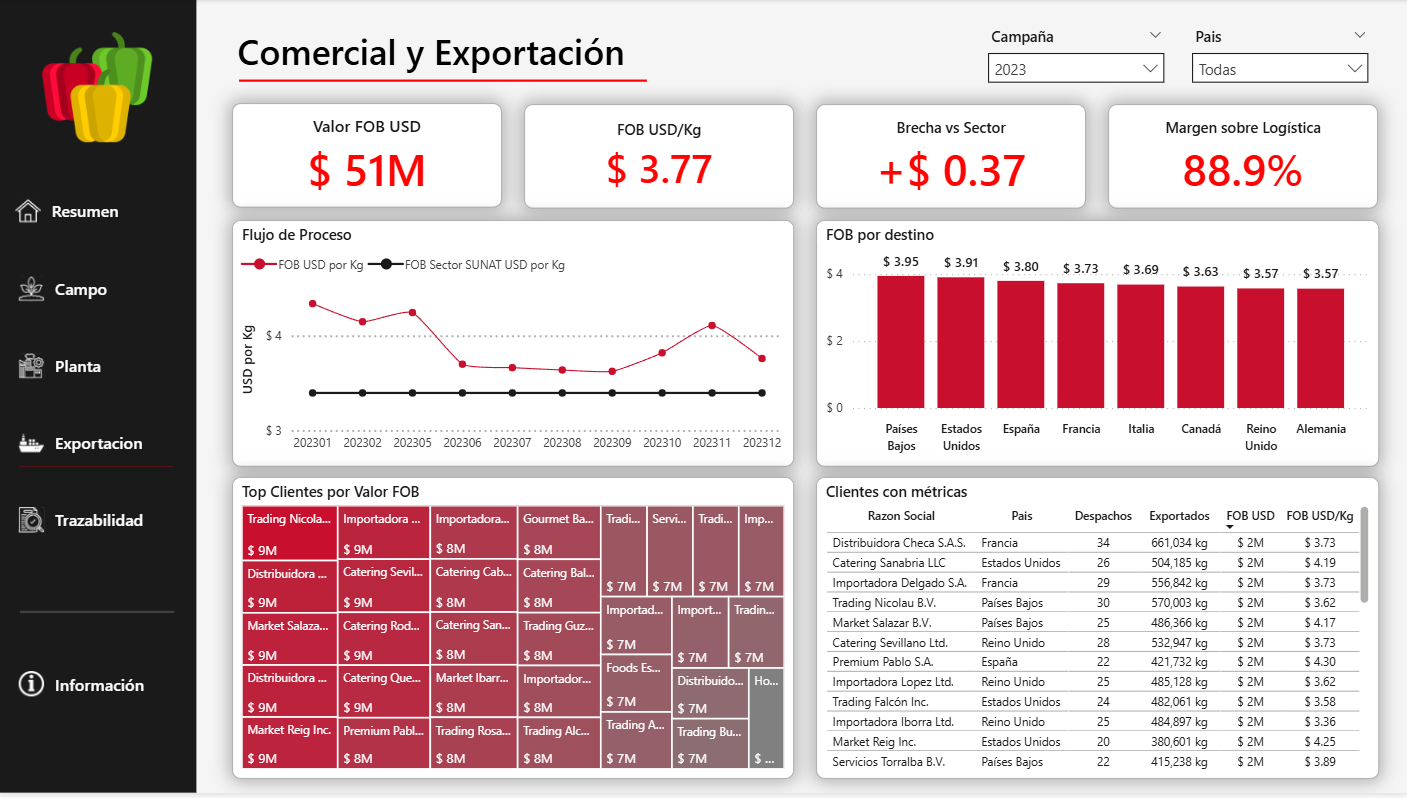

The page's visual inventory and layout, read from the dashboard file:
{"tool":"powerbi","page":{"name":"Exportacion","canvas":[1280,720],"ordinal":3},"visuals":[{"type":"shape","box":[0,0,180.4,720],"z":0},{"type":"cardVisual","fields":{"Data":["_Medidas.Valor FOB USD M"]},"box":[212.2,94.5,245.3,95],"z":1000},{"type":"cardVisual","fields":{"Data":["FactDespacho.FOB USD por Kg"]},"box":[477.1,95,245,95],"z":2000},{"type":"cardVisual","fields":{"Data":["FactDespacho.Brecha FOB vs Sector"]},"box":[742.1,95,245,95],"z":3000},{"type":"cardVisual","fields":{"Data":["FactDespacho.Margen Bruto %"]},"box":[1007.1,95,245,95],"z":4000},{"type":"textbox","box":[212.1,20,380,55],"z":5000},{"type":"shape","box":[218.2,68.4,370,12.1],"z":6000},{"type":"slicer","fields":{"Values":["DimFecha.Campania"]},"box":[887.8,20.1,180,60.3],"z":7000},{"type":"lineChart","title":"Flujo de Proceso","fields":{"Y":["FactDespacho.FOB USD por Kg","FactDespacho.FOB Sector SUNAT USD por Kg"],"Category":["DimFecha.AnioMes"]},"box":[211.9,200.2,509.9,223.5],"z":8000},{"type":"clusteredColumnChart","title":"FOB por destino","fields":{"Category":["DimDestino.Pais"],"Y":["FactDespacho.FOB USD por Kg"]},"box":[742.4,200.2,510.8,223.5],"z":9000},{"type":"actionButton","box":[12,170,155,44],"z":10000},{"type":"shape","box":[18.9,417.5,140,12.6],"z":11000},{"type":"actionButton","box":[12,240,155,44],"z":12000},{"type":"actionButton","box":[12,310,155,44],"z":13000},{"type":"actionButton","box":[12,380,155,44],"z":14000},{"type":"actionButton","box":[12,450,155,44],"z":15000},{"type":"image","box":[39.5,29.6,99.7,99.7],"z":16000},{"type":"actionButton","box":[12,600,154.4,44],"z":17000},{"type":"shape","box":[19.8,550,140,12.6],"z":18000},{"type":"treemap","title":"Top Clientes por Valor FOB","fields":{"Values":["_Medidas.Valor FOB USD M"],"Group":["DimCliente.RazonSocial"]},"box":[211.9,433.6,509.9,273.8],"z":19000},{"type":"tableEx","title":"Clientes con métricas","fields":{"Values":["DimCliente.RazonSocial","DimCliente.Pais","FactDespacho.Despachos","FactDespacho.Kg Exportados","_Medidas.Valor FOB USD M","FactDespacho.FOB USD por Kg"]},"box":[742.4,433.6,510.8,273.8],"z":20000},{"type":"slicer","fields":{"Values":["DimDestino.Pais"]},"box":[1072.8,19.8,180.4,60.1],"z":21000}]}

Visuals, with their boxes on the page's 1280x720 design canvas (x1, y1, x2, y2). These are canvas units, not pixel positions in the 1407x798 screenshot, which may show the page scaled, cropped or inside an application window:
shape: bbox=[0, 0, 180, 720]
cardVisual - _Medidas.Valor FOB USD M: bbox=[212, 94, 458, 190]
cardVisual - FactDespacho.FOB USD por Kg: bbox=[477, 95, 722, 190]
cardVisual - FactDespacho.Brecha FOB vs Sector: bbox=[742, 95, 987, 190]
cardVisual - FactDespacho.Margen Bruto %: bbox=[1007, 95, 1252, 190]
textbox: bbox=[212, 20, 592, 75]
shape: bbox=[218, 68, 588, 80]
slicer - DimFecha.Campania: bbox=[888, 20, 1068, 80]
"Flujo de Proceso" lineChart: bbox=[212, 200, 722, 424]
"FOB por destino" clusteredColumnChart: bbox=[742, 200, 1253, 424]
actionButton: bbox=[12, 170, 167, 214]
shape: bbox=[19, 418, 159, 430]
actionButton: bbox=[12, 240, 167, 284]
actionButton: bbox=[12, 310, 167, 354]
actionButton: bbox=[12, 380, 167, 424]
actionButton: bbox=[12, 450, 167, 494]
image: bbox=[40, 30, 139, 129]
actionButton: bbox=[12, 600, 166, 644]
shape: bbox=[20, 550, 160, 563]
"Top Clientes por Valor FOB" treemap: bbox=[212, 434, 722, 707]
"Clientes con métricas" tableEx: bbox=[742, 434, 1253, 707]
slicer - DimDestino.Pais: bbox=[1073, 20, 1253, 80]
